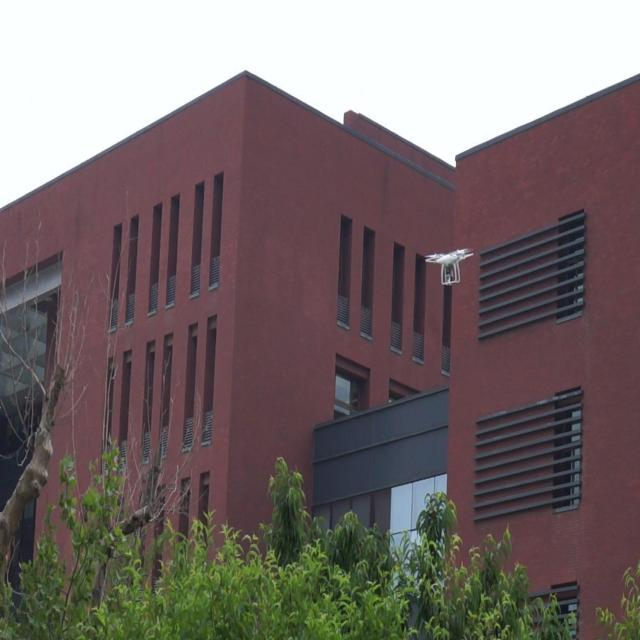UAV: (424, 246, 474, 286)
